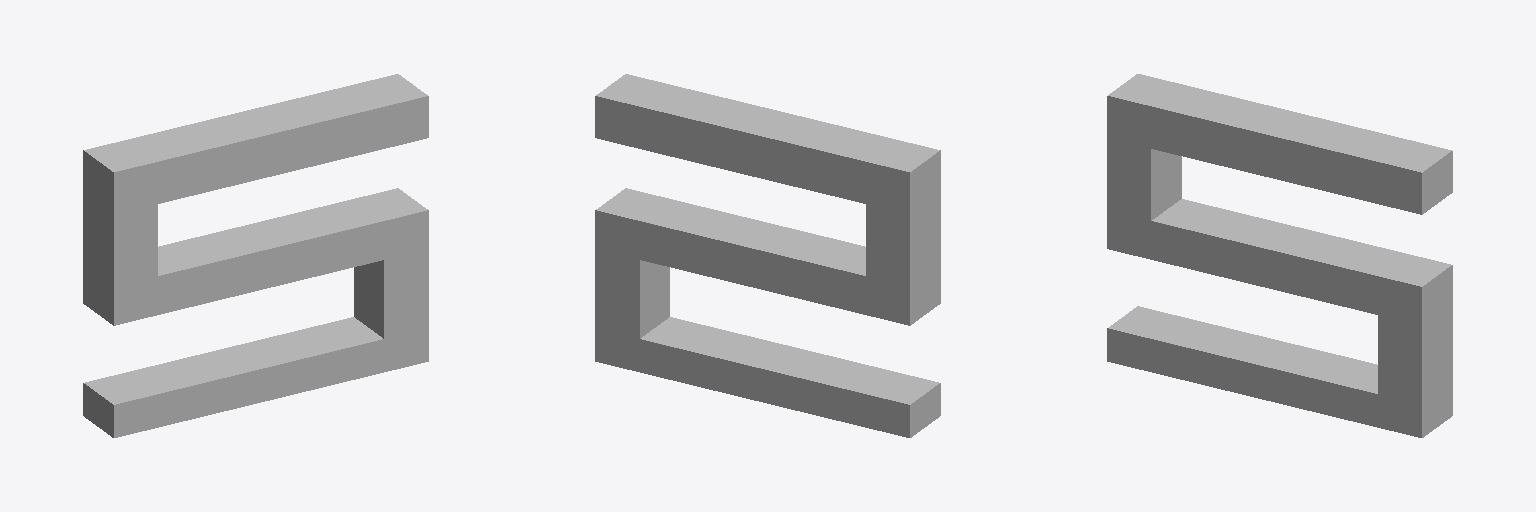
The model's file is five.obj.
The picture shows the model from 3 angles: view 1: azimuth 30°, elevation 25°; view 2: azimuth 150°, elevation 25°; view 3: azimuth 330°, elevation 25°; orthographic projection.
Visible parts, largest first — view 1: Cube.004_Cube.005; view 2: Cube.004_Cube.005; view 3: Cube.004_Cube.005.
Part boxes in pixels (x1,y1,x2,y2): Cube.004_Cube.005: (83,74,428,437); Cube.004_Cube.005: (595,74,940,437); Cube.004_Cube.005: (1107,74,1452,437).
Size of the model in its own units: 0.5993 by 0.4841 by 0.1.